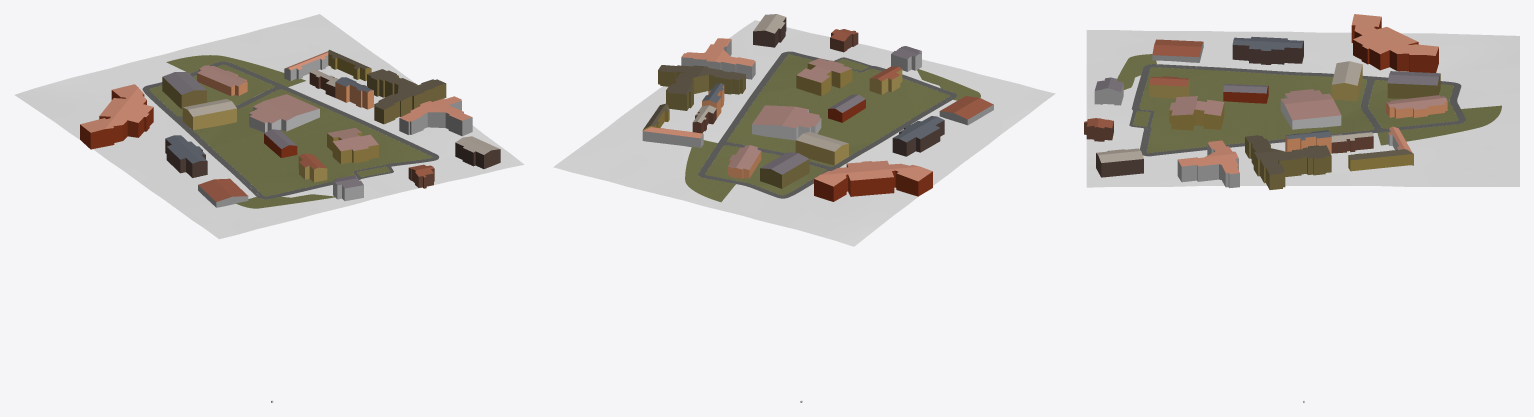
Rendered from Campus05.fbx.
The picture shows the model from 3 angles, left to right: view 1: azimuth 30°, elevation 25°; view 2: azimuth 150°, elevation 25°; view 3: azimuth 270°, elevation 25°; orthographic projection. The views are drawn at different scales.
Visible parts, largest first — view 1: Terrain, Terrain_GroundNode, Terrain_Ground_1Node, Volpe Library and Media Center, New Hall-North, Terrain_Ground_3Node, New Hall-South, Roaden University Center, Terrain_Ground_2Node, Derryberry Hall, Clement Hall, Foster Hall (+16 smaller); view 2: Terrain, Terrain_GroundNode, Volpe Library and Media Center, Terrain_Ground_1Node, Terrain_Ground_3Node, New Hall-North, Roaden University Center, Terrain_Ground_2Node, Derryberry Hall, New Hall-South, Clement Hall, Johnson Hall (+15 smaller); view 3: Terrain, Terrain_Ground_1Node, Terrain_GroundNode, Volpe Library and Media Center, Terrain_Ground_3Node, New Hall-North, Roaden University Center, New Hall-South, Terrain_Ground_2Node, Clement Hall, Derryberry Hall, Johnson Hall (+15 smaller).
Part boxes in pixels (x1=…): Terrain: x1=15, y1=14, x2=524, y2=239; Terrain_GroundNode: x1=205, y1=129, x2=346, y2=208; Terrain_Ground_1Node: x1=280, y1=109, x2=433, y2=177; Volpe Library and Media Center: x1=80, y1=84, x2=153, y2=149; New Hall-North: x1=367, y1=69, x2=446, y2=124; Terrain_Ground_3Node: x1=179, y1=55, x2=328, y2=111; New Hall-South: x1=399, y1=96, x2=472, y2=136; Roaden University Center: x1=249, y1=94, x2=319, y2=132; Terrain_Ground_2Node: x1=149, y1=59, x2=254, y2=141; Derryberry Hall: x1=327, y1=128, x2=378, y2=164; Clement Hall: x1=165, y1=135, x2=207, y2=177; Foster Hall: x1=182, y1=99, x2=236, y2=129; Terrain: x1=553, y1=20, x2=1055, y2=246; Terrain_GroundNode: x1=818, y1=69, x2=980, y2=145; Volpe Library and Media Center: x1=814, y1=160, x2=932, y2=201; Terrain_Ground_1Node: x1=745, y1=54, x2=877, y2=116; Terrain_Ground_3Node: x1=685, y1=114, x2=787, y2=198; New Hall-North: x1=658, y1=65, x2=745, y2=110; Roaden University Center: x1=752, y1=105, x2=821, y2=140; Terrain_Ground_2Node: x1=710, y1=133, x2=866, y2=202; Derryberry Hall: x1=796, y1=58, x2=852, y2=96; New Hall-South: x1=681, y1=38, x2=755, y2=79; Clement Hall: x1=892, y1=116, x2=944, y2=156; Johnson Hall: x1=760, y1=152, x2=809, y2=188; Terrain: x1=1086, y1=30, x2=1519, y2=187; Terrain_Ground_1Node: x1=1133, y1=105, x2=1303, y2=153; Terrain_GroundNode: x1=1117, y1=54, x2=1303, y2=108; Volpe Library and Media Center: x1=1351, y1=14, x2=1438, y2=72; Terrain_Ground_3Node: x1=1303, y1=109, x2=1500, y2=145; New Hall-North: x1=1245, y1=135, x2=1331, y2=189; Roaden University Center: x1=1280, y1=89, x2=1341, y2=129; New Hall-South: x1=1177, y1=140, x2=1239, y2=188; Terrain_Ground_2Node: x1=1303, y1=75, x2=1501, y2=111; Clement Hall: x1=1232, y1=36, x2=1303, y2=64; Derryberry Hall: x1=1169, y1=96, x2=1224, y2=130; Johnson Hall: x1=1387, y1=71, x2=1440, y2=98.
Bounding box in the file's own units: 41246 × 37000 × 46657.
